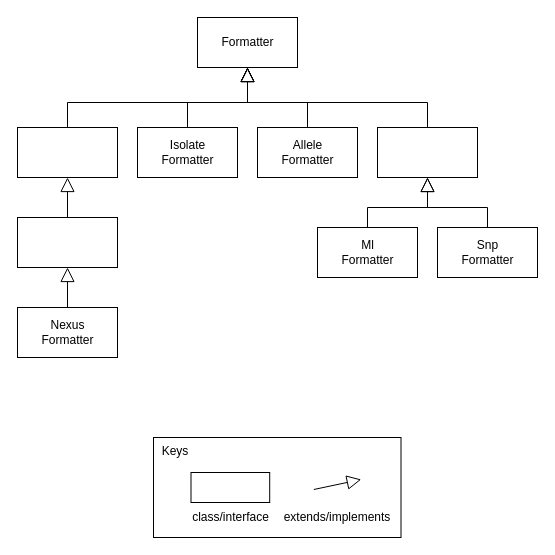
The diagram is 555 pixels wide and 555 high, and some of its shapes have lost their labels. The shapes that lost their labels are listed below. From the top down, each one's centre as x and y in pixels, then its label:
At point (67, 152): "Tree Formatter".
At point (427, 152): "Profile Formatter".
At point (67, 242): "Newick Formatter".
